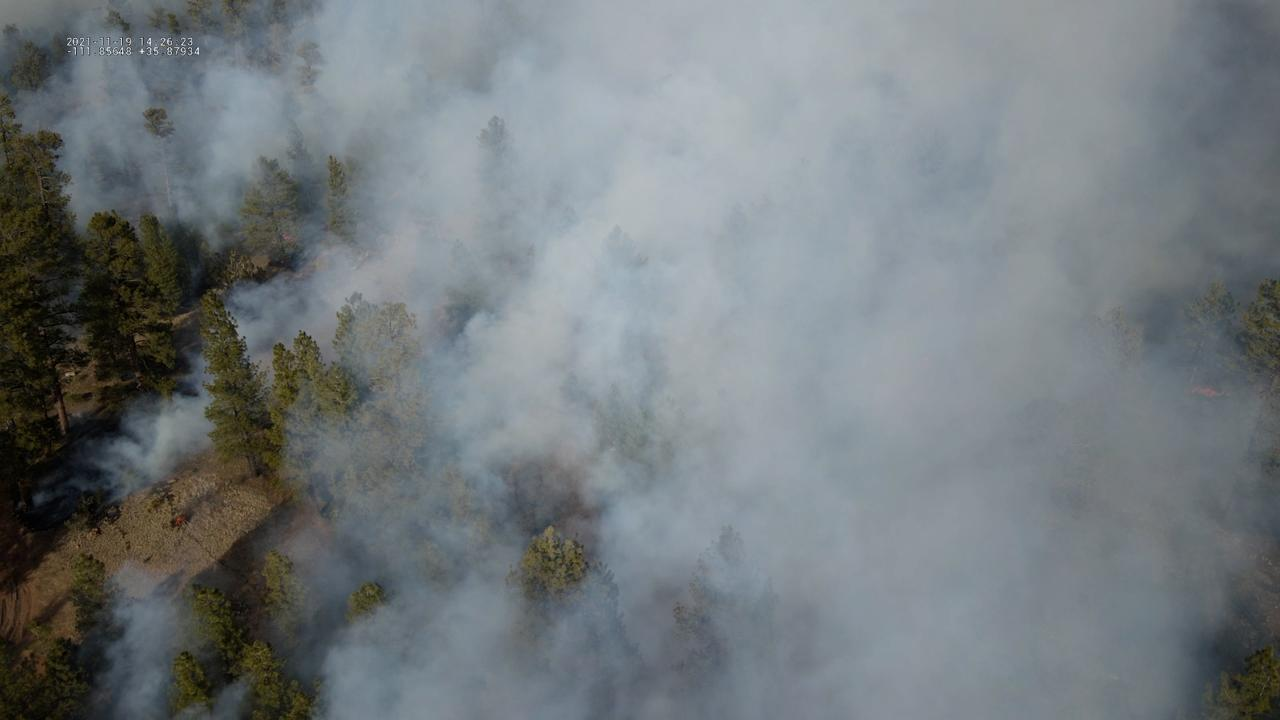fire: (1186, 386, 1225, 398), (279, 231, 293, 242), (174, 515, 186, 526)
smoke: (0, 0, 1280, 720)
